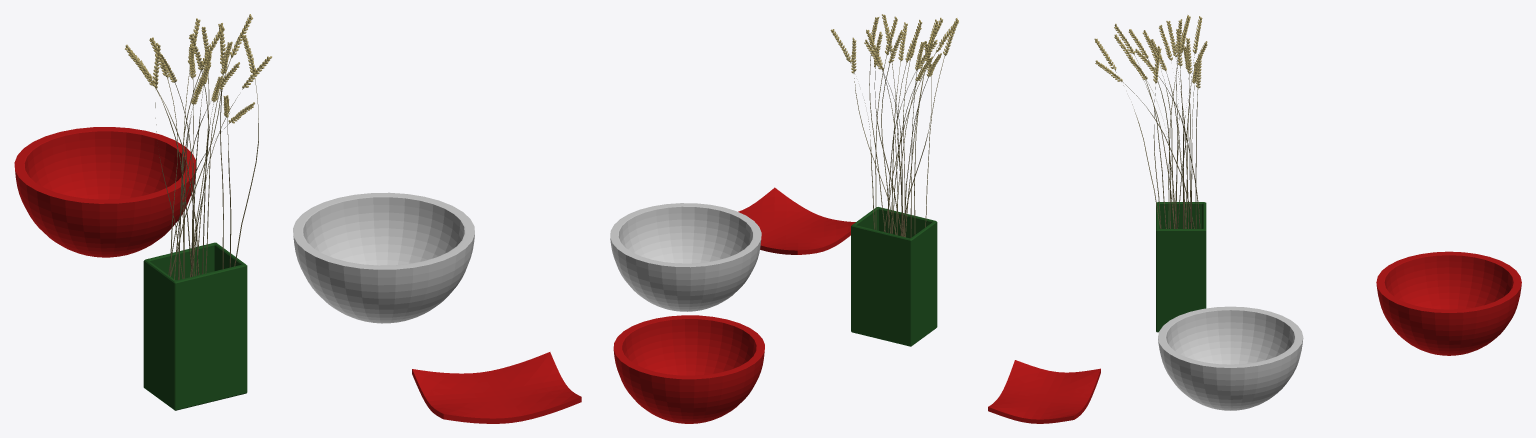
The model's file is complements1.obj.
3 views of the same model, side by side, from view 1: azimuth 30°, elevation 25°; view 2: azimuth 150°, elevation 25°; view 3: azimuth 270°, elevation 25° (orthographic). The views are drawn at different scales.
Parts seen in each view (by area): view 1: basket_Sphere, redbasket_Sphere.001, jarronCristal_Cube.1276, espigas_leaves.001, abstract_Cube.002; view 2: basket_Sphere, redbasket_Sphere.001, jarronCristal_Cube.1276, espigas_leaves.001, abstract_Cube.002; view 3: redbasket_Sphere.001, basket_Sphere, espigas_leaves.001, jarronCristal_Cube.1276, abstract_Cube.002.
Boxes of the visible parts, <box> form: basket_Sphere: <box>293,192,474,323</box>; redbasket_Sphere.001: <box>14,127,196,257</box>; jarronCristal_Cube.1276: <box>143,242,247,410</box>; espigas_leaves.001: <box>125,14,271,279</box>; abstract_Cube.002: <box>412,352,581,423</box>; basket_Sphere: <box>610,203,761,311</box>; redbasket_Sphere.001: <box>613,315,764,423</box>; jarronCristal_Cube.1276: <box>851,207,937,346</box>; espigas_leaves.001: <box>830,14,958,237</box>; abstract_Cube.002: <box>738,187,855,254</box>; redbasket_Sphere.001: <box>1376,251,1521,355</box>; basket_Sphere: <box>1158,306,1303,410</box>; espigas_leaves.001: <box>1094,15,1207,228</box>; jarronCristal_Cube.1276: <box>1156,202,1206,332</box>; abstract_Cube.002: <box>988,360,1100,423</box>.
Bounding box in the file's own units: 0.9134 × 0.876 × 1.47.
